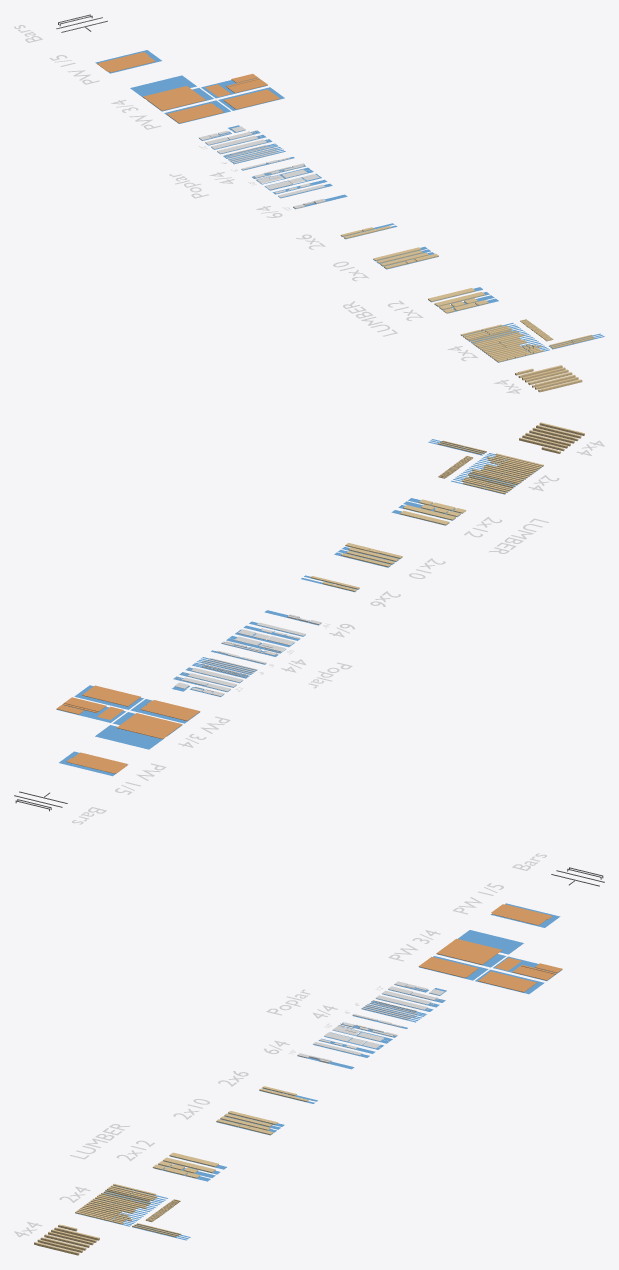
The model's file is bunks-project-cut.glb.
3 views of the same model, one above another, from view 1: azimuth 30°, elevation 25°; view 2: azimuth 150°, elevation 25°; view 3: azimuth 330°, elevation 25° (orthographic). The views are drawn at different scales.
Parts seen in each view (by area): view 1: queen-platform.001, Plane.054, twin-platform-bottom.001, twin-platform-top.001, bed-platform.001; view 2: queen-platform.001, Plane.054, twin-platform-bottom.001, twin-platform-top.001, bed-platform.001; view 3: queen-platform.001, Plane.054, twin-platform-bottom.001, twin-platform-top.001, bed-platform.001.
Boxes of the visible parts, x1,y1,x2,y2 form: queen-platform.001: (143,86,205,110); Plane.054: (130,75,196,98); twin-platform-bottom.001: (97,52,155,72); twin-platform-top.001: (166,103,223,123); bed-platform.001: (223,89,280,109); queen-platform.001: (117,713,182,739); Plane.054: (95,725,164,749); twin-platform-bottom.001: (66,752,127,773); twin-platform-top.001: (140,700,200,720); bed-platform.001: (82,685,140,706); queen-platform.001: (436,938,501,964); Plane.054: (458,930,523,954); twin-platform-bottom.001: (491,904,552,925); twin-platform-top.001: (418,957,478,977); bed-platform.001: (478,971,536,992).
Size of the model in its own units: 7.99 by 0.1156 by 40.82.
